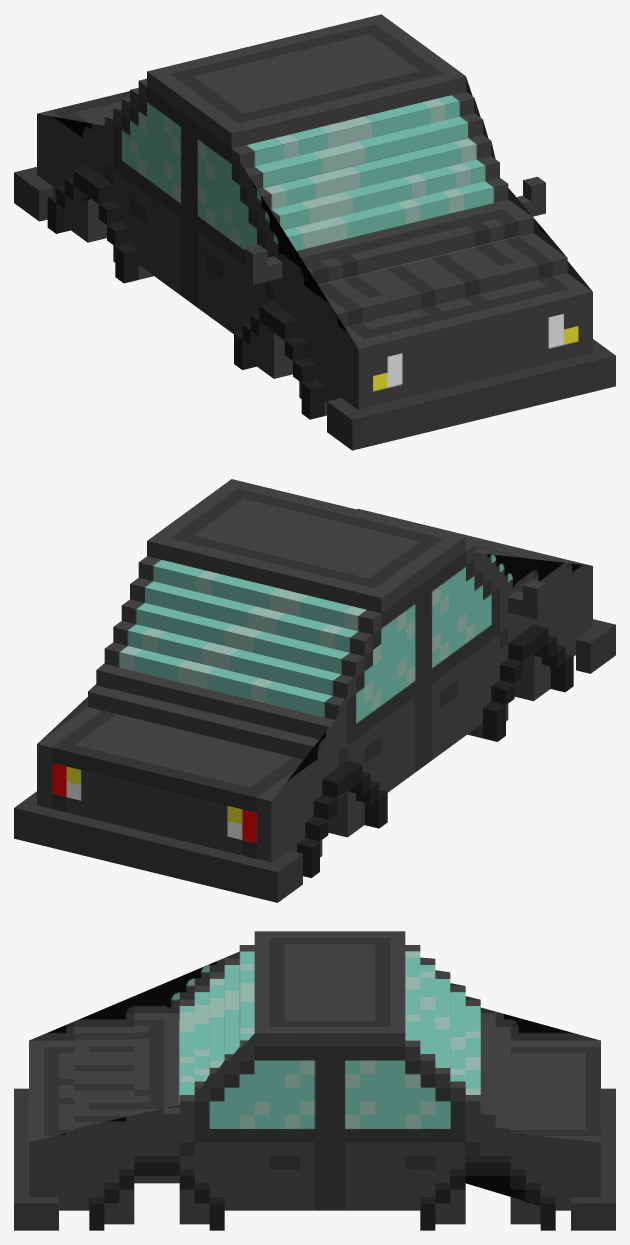
The model's file is Car_Var3_3.obj.
3 views of the same model, one above another, from view 1: azimuth 30°, elevation 25°; view 2: azimuth 150°, elevation 25°; view 3: azimuth 270°, elevation 25° (orthographic). The views are drawn at different scales.
Parts seen in each view (by area): view 1: Car_Var3_3_Car_Var3_3.001; view 2: Car_Var3_3_Car_Var3_3.001; view 3: Car_Var3_3_Car_Var3_3.001.
Part boxes in pixels (x1,y1,x2,y2): Car_Var3_3_Car_Var3_3.001: [14, 14, 615, 450]; Car_Var3_3_Car_Var3_3.001: [14, 479, 615, 902]; Car_Var3_3_Car_Var3_3.001: [14, 931, 615, 1230].
Size of the model in its own units: 2 by 1.4 by 4.
